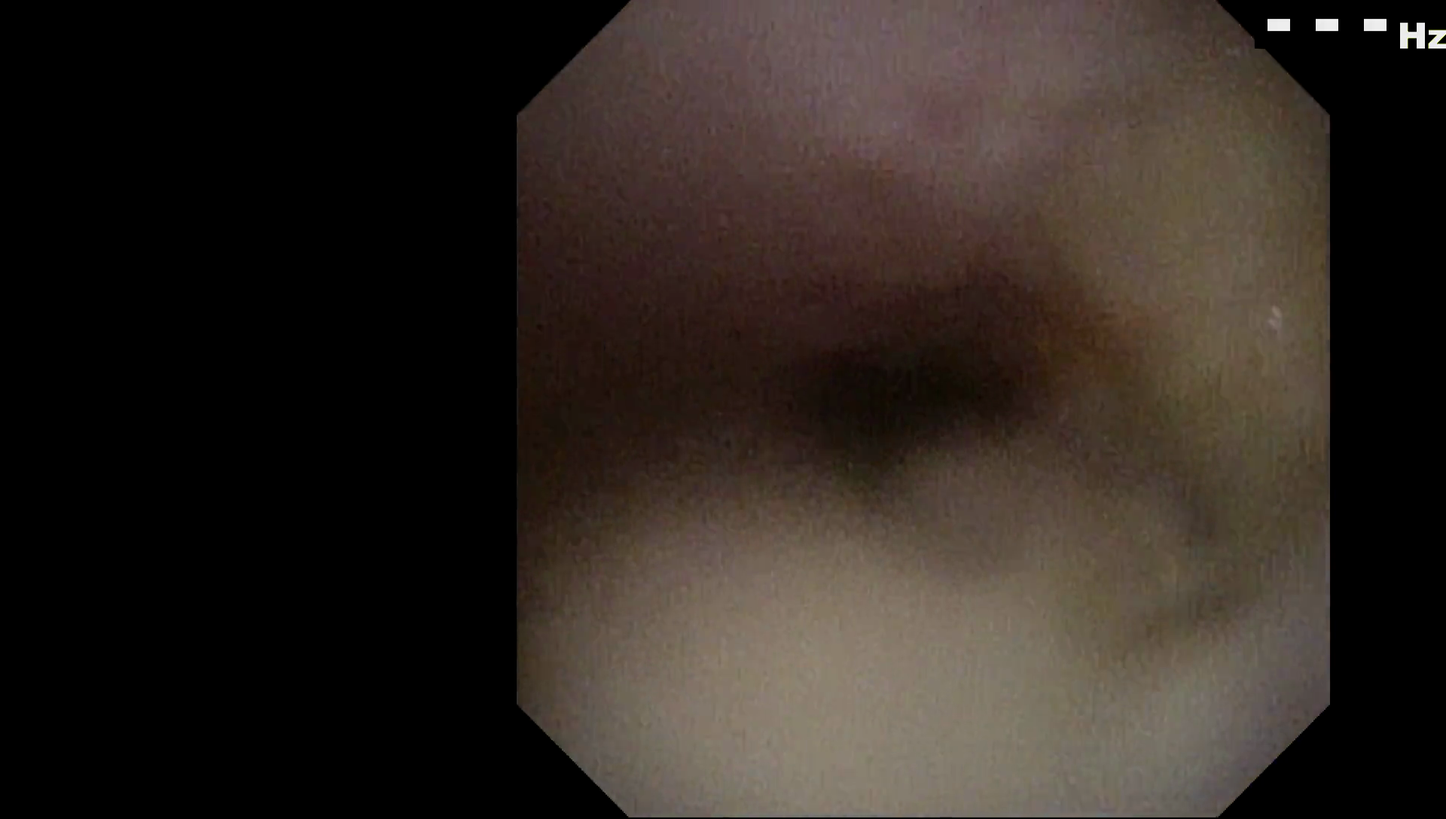next: (719, 272, 1087, 498)
